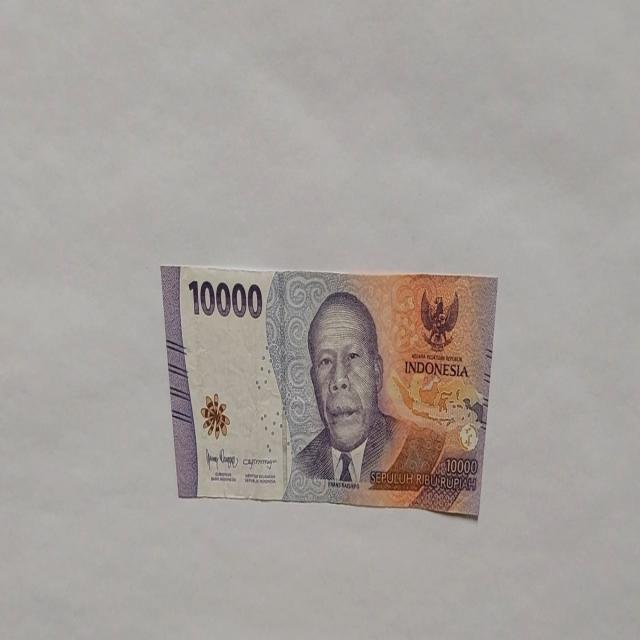sepuluh ribu rupiah: (160, 263, 498, 516), (282, 288, 446, 503)
